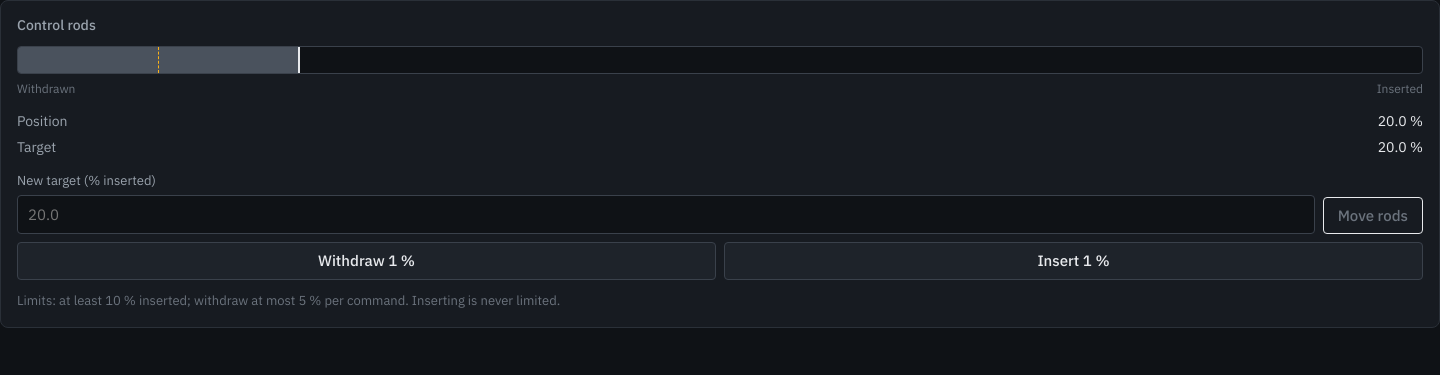
Test case: Rod control › sends a valid target
The width and height of the screenshot is (1440, 375).
Type "17.5" into the number field labelled "New target (% inserted)" at [666, 214], box top-left (17, 195), bottom-right (1315, 234)
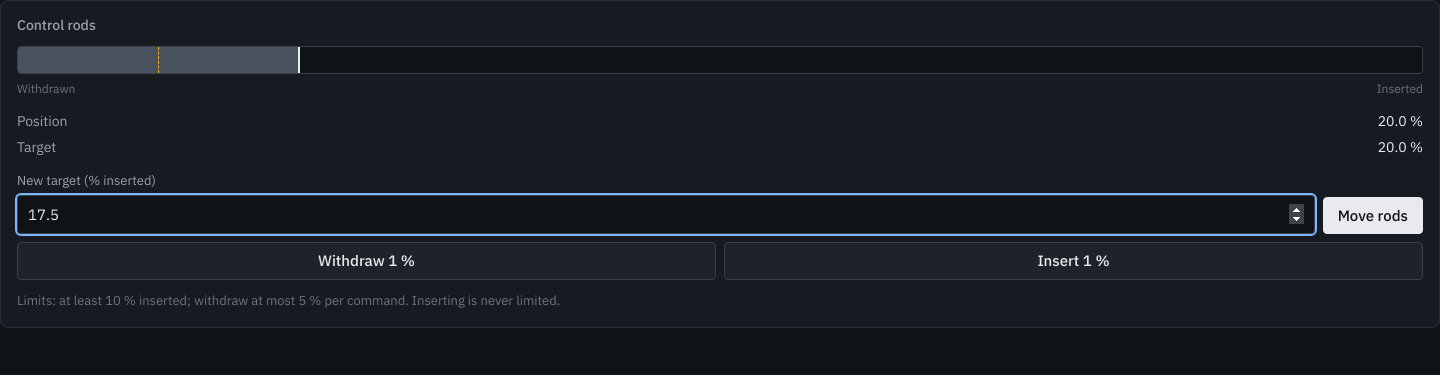
Click the button "Move rods" at [1373, 216], box top-left (1323, 197), bottom-right (1423, 234)
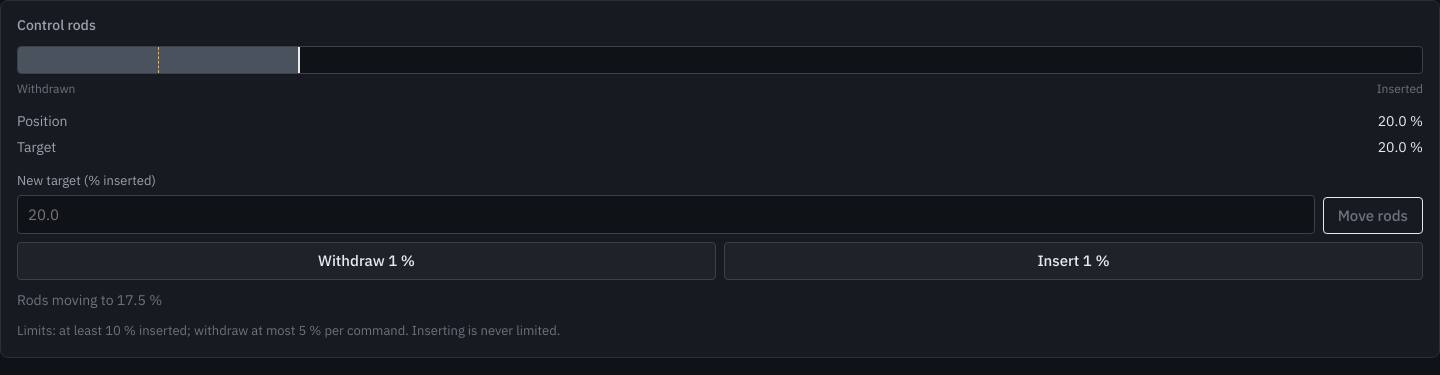
expect the message reads "Rods moving to 17.5 %": met, box top-left (17, 291), bottom-right (162, 309)
